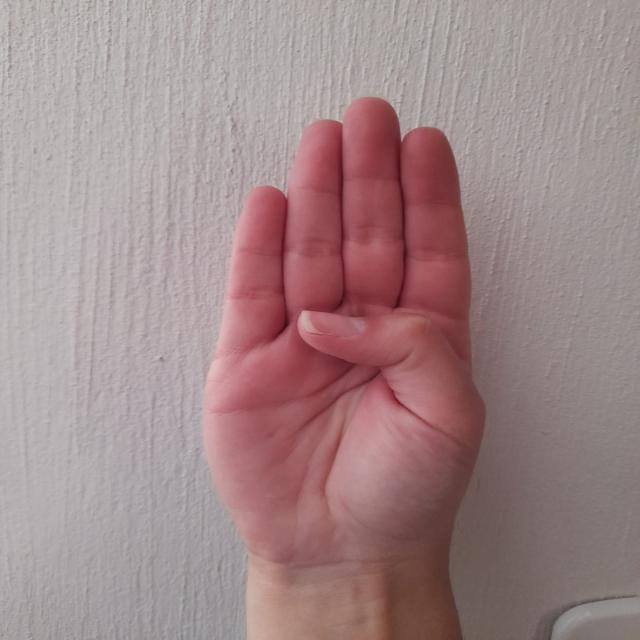B: (144, 88, 531, 618)
